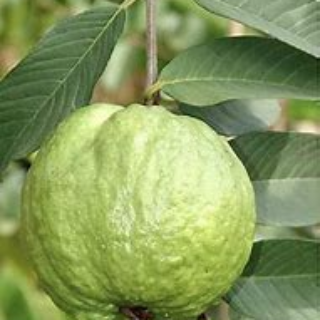oi: (28, 107, 261, 319)
